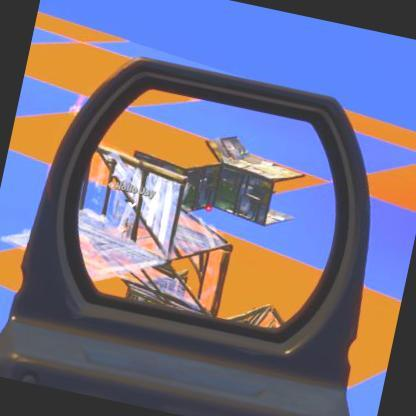person: (123, 209, 137, 237)
